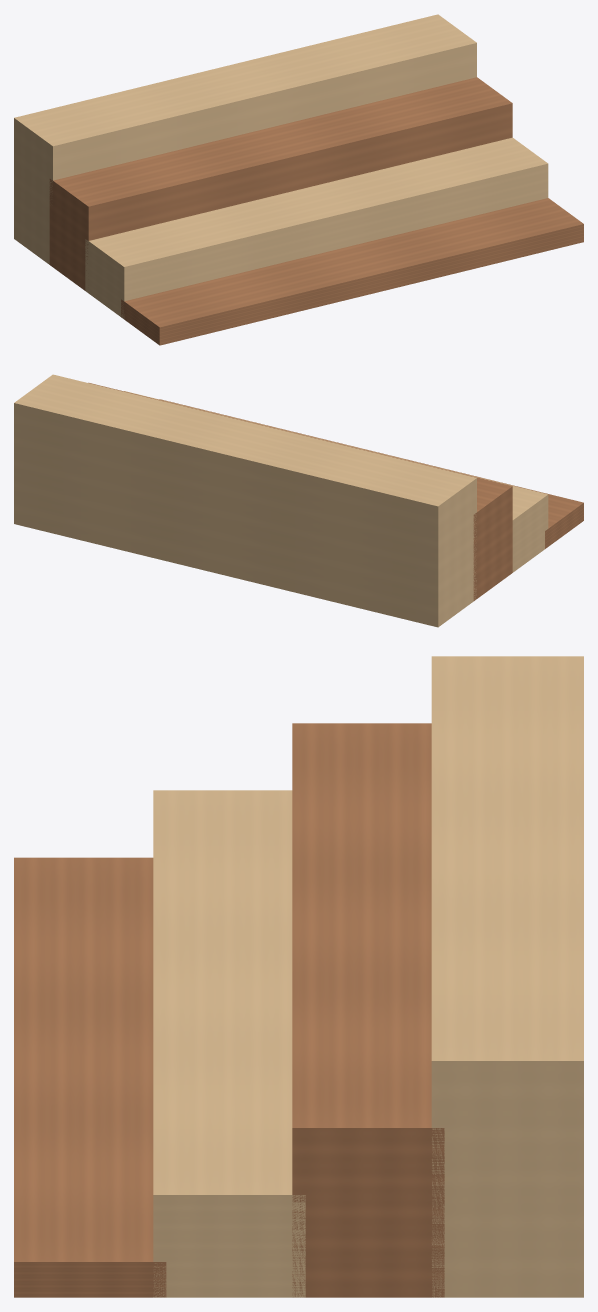
The model's file is atlas100-s091-a10.lod2.glb.
3 renders of one model, top to bottom at view 1: azimuth 30°, elevation 25°; view 2: azimuth 150°, elevation 25°; view 3: azimuth 270°, elevation 25°, orthographic. The views are drawn at different scales.
Parts seen in each view (by area): view 1: atlas100-s091-a10:part-003, atlas100-s091-a10:part-002, atlas100-s091-a10:part-001, atlas100-s091-a10:part-000; view 2: atlas100-s091-a10:part-003, atlas100-s091-a10:part-002, atlas100-s091-a10:part-001, atlas100-s091-a10:part-000; view 3: atlas100-s091-a10:part-003, atlas100-s091-a10:part-002, atlas100-s091-a10:part-001, atlas100-s091-a10:part-000.
Part boxes in pixels (<box>): atlas100-s091-a10:part-003: <box>14,14,476,264</box>; atlas100-s091-a10:part-002: <box>49,77,512,290</box>; atlas100-s091-a10:part-001: <box>85,137,548,319</box>; atlas100-s091-a10:part-000: <box>121,198,583,345</box>; atlas100-s091-a10:part-003: <box>14,374,476,627</box>; atlas100-s091-a10:part-002: <box>88,382,512,600</box>; atlas100-s091-a10:part-001: <box>124,391,548,572</box>; atlas100-s091-a10:part-000: <box>159,399,583,548</box>; atlas100-s091-a10:part-003: <box>431,656,583,1297</box>; atlas100-s091-a10:part-002: <box>292,723,444,1297</box>; atlas100-s091-a10:part-001: <box>153,790,305,1297</box>; atlas100-s091-a10:part-000: <box>14,857,166,1297</box>.
Bounding box in the file's own units: 2.2 × 0.6 × 1.31.
2 materials, 2 textured.
